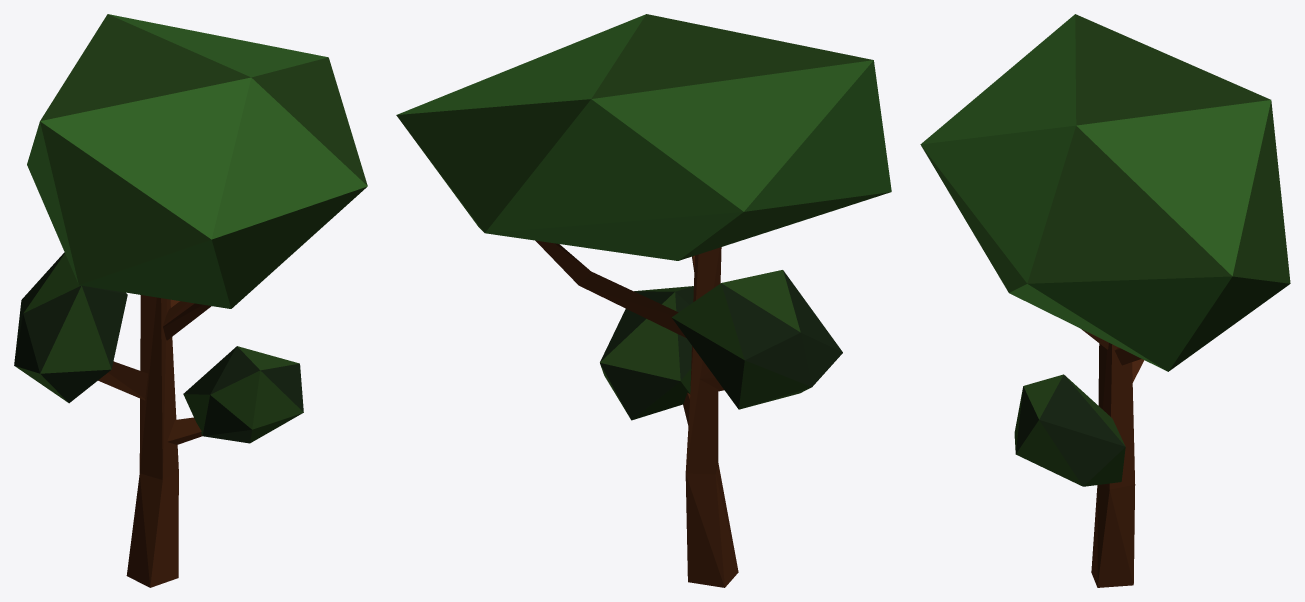
Rendered from Tree3_M1_5_medium.fbx.
3 views of the same model, side by side, from view 1: azimuth 30°, elevation 25°; view 2: azimuth 150°, elevation 25°; view 3: azimuth 270°, elevation 25° (orthographic). The views are drawn at different scales.
Parts seen in each view (by area): view 1: Tree3_M1_5_medium; view 2: Tree3_M1_5_medium; view 3: Tree3_M1_5_medium.
Part boxes in pixels (x1,y1,x2,y2): Tree3_M1_5_medium: (14,14,367,587); Tree3_M1_5_medium: (396,14,891,587); Tree3_M1_5_medium: (920,14,1290,587).
Size of the model in its own units: 373 by 486 by 325.
